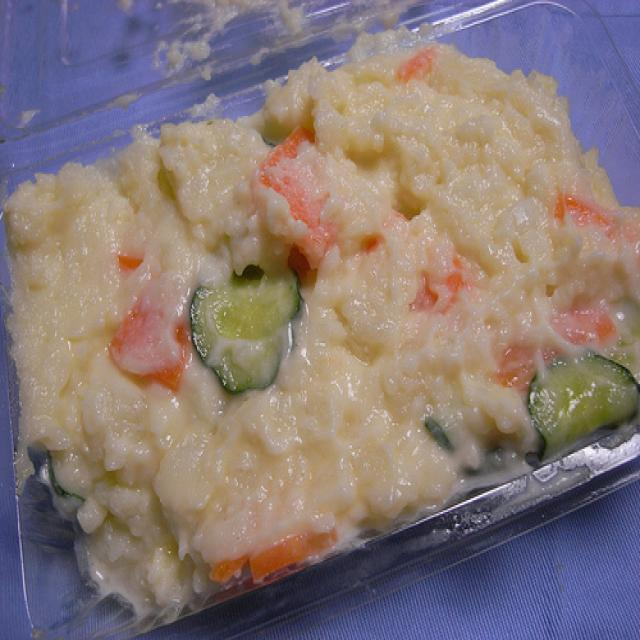蔬菜料理: (0, 13, 640, 640)
